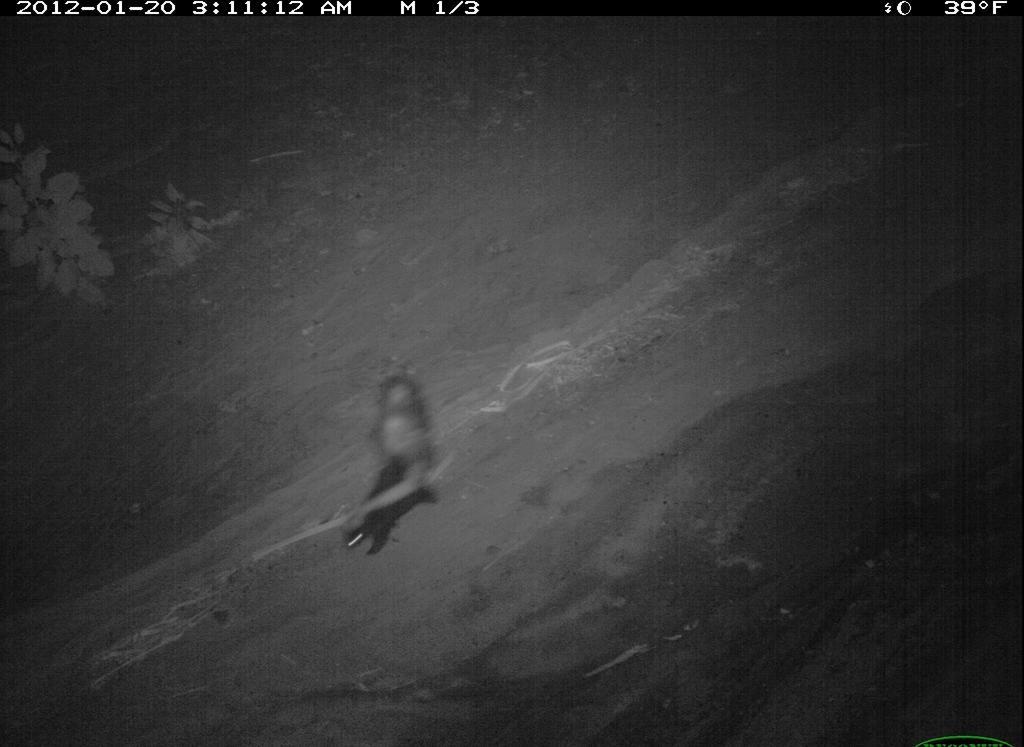skunk: (656, 735, 902, 747)
